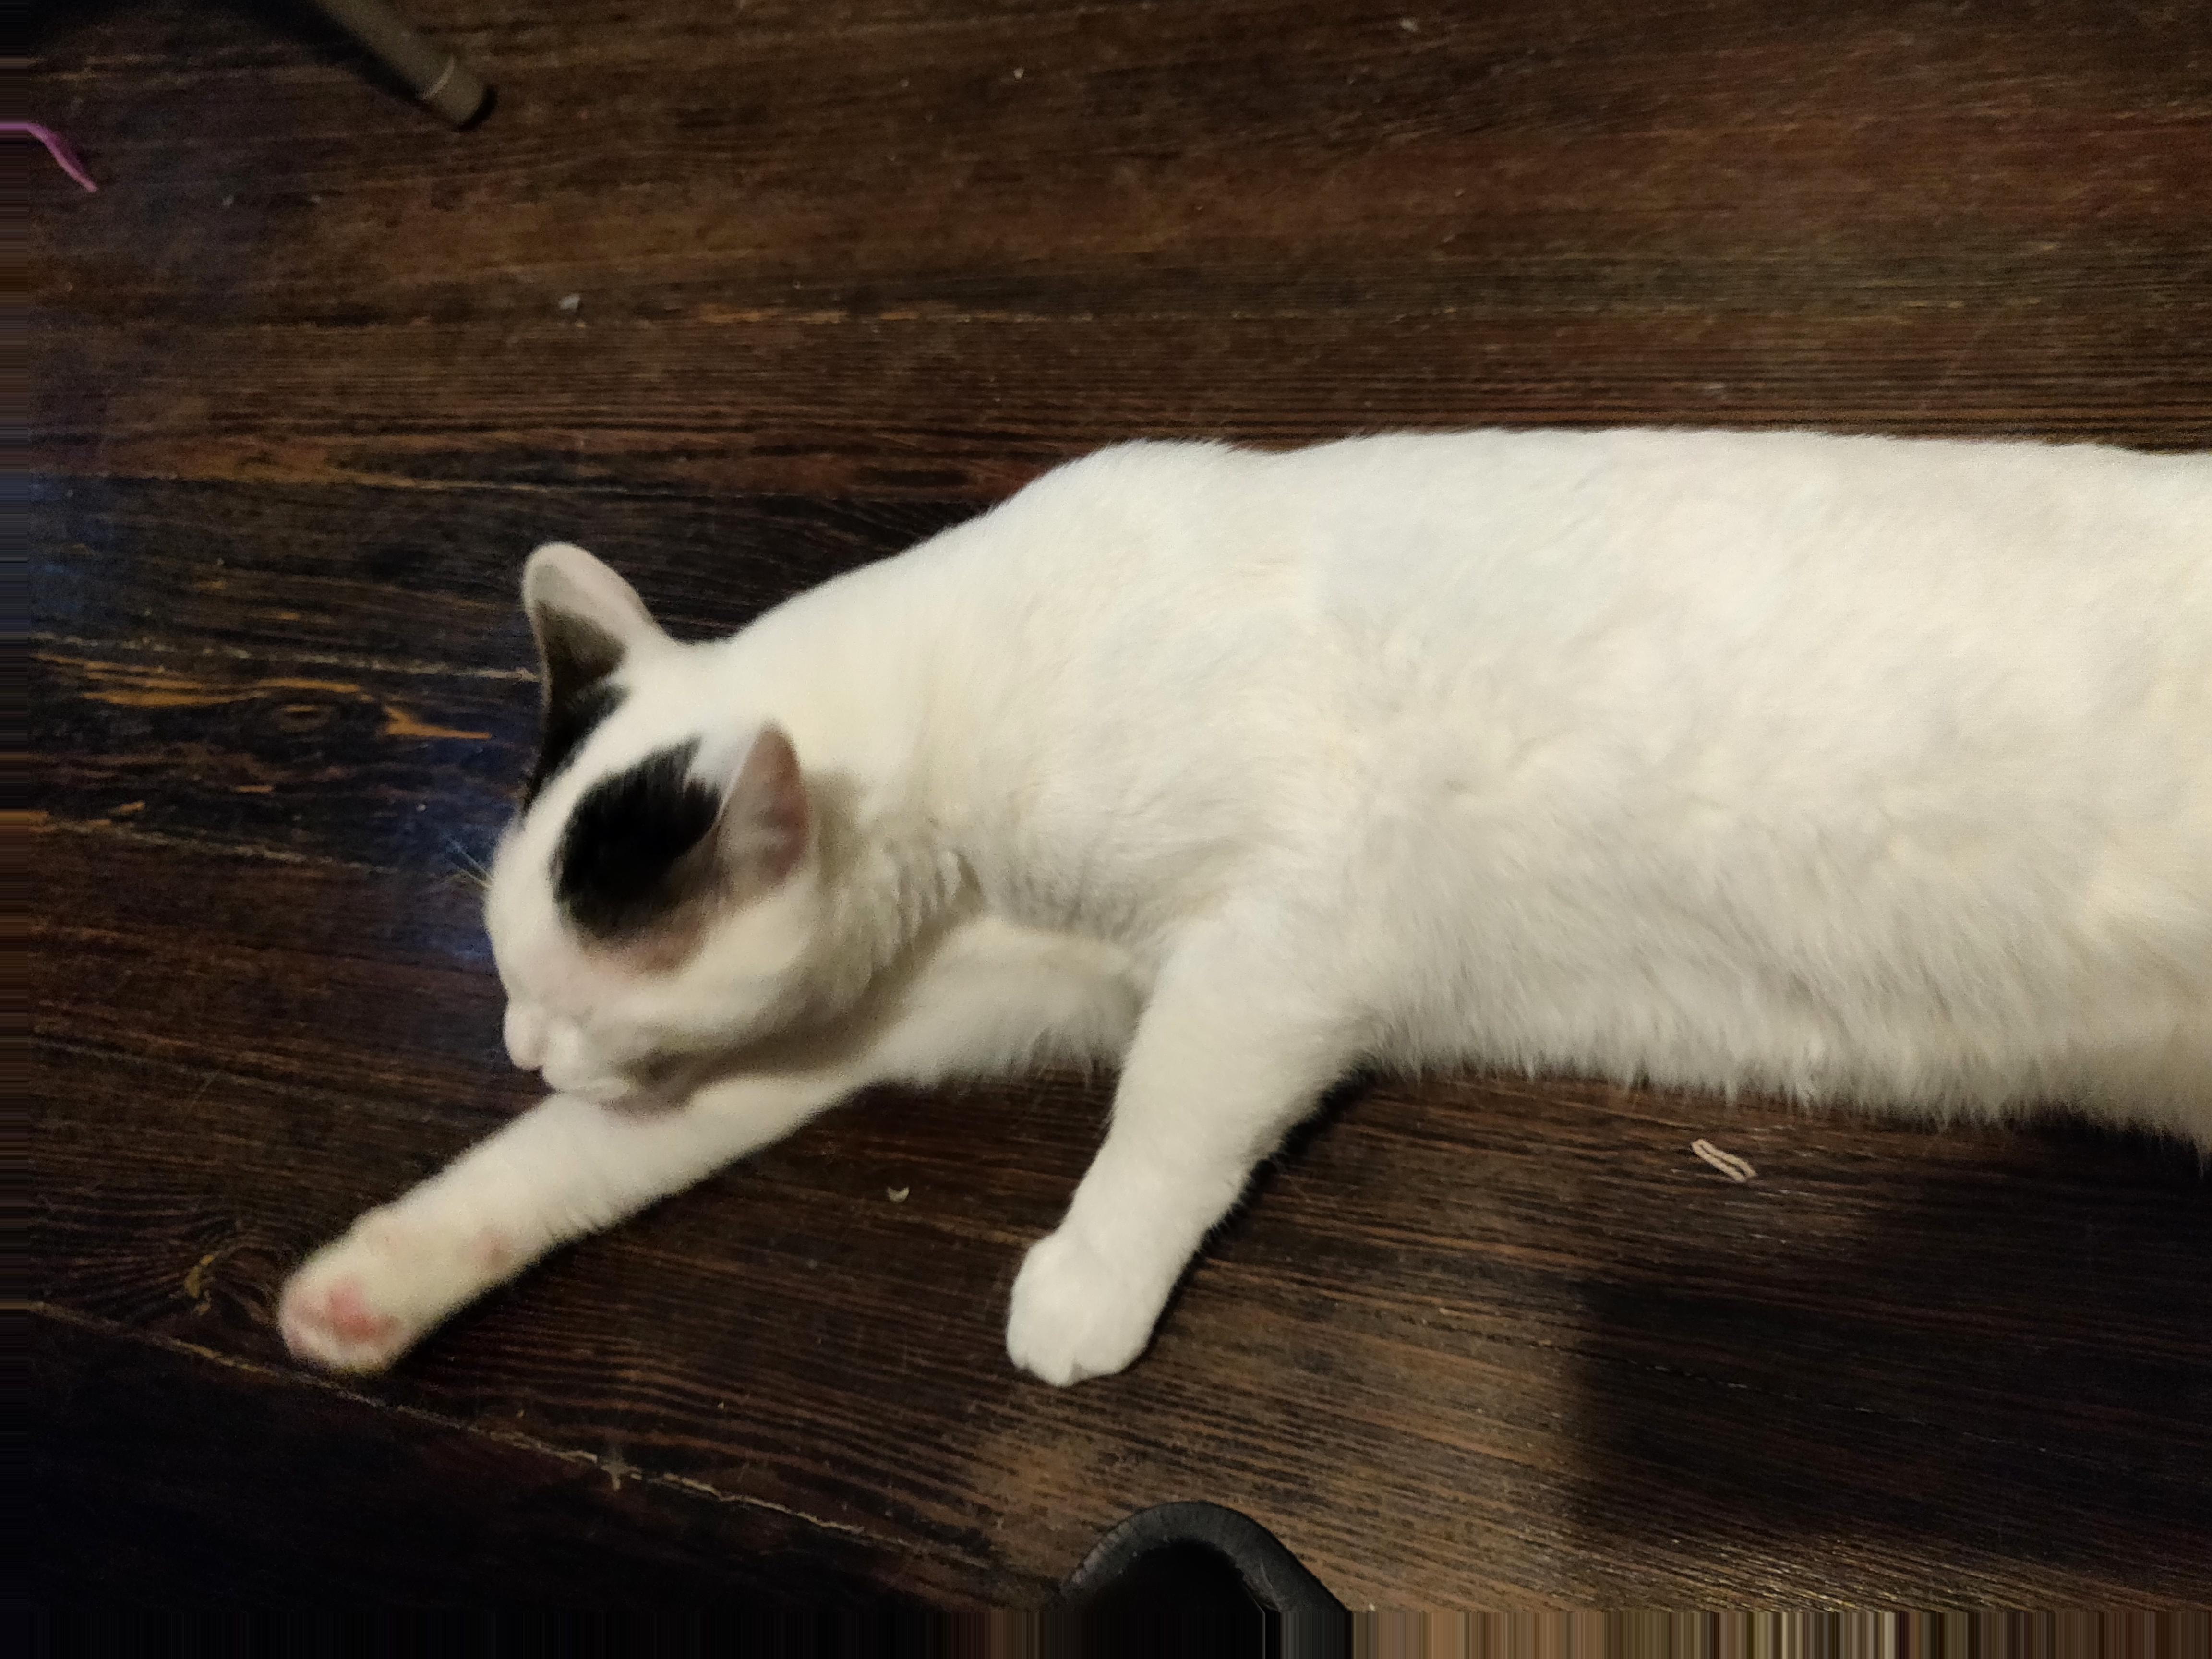cat: (305, 439, 2194, 1377)
